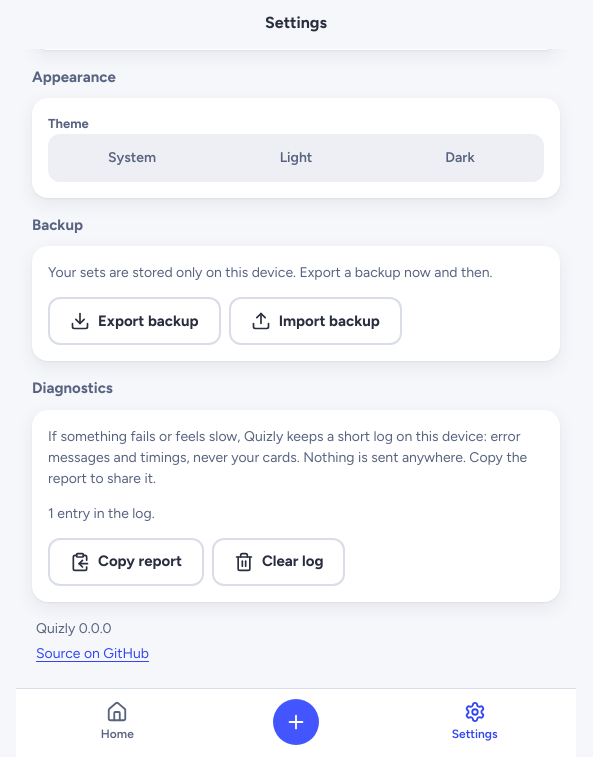
SettingsPage diagnostics › clears the log
(page scrolled)
What coordinates should you click on to do the following:
click the button "Clear log"
I would click on:
 (279, 562)
Its box is [212, 538, 345, 586].
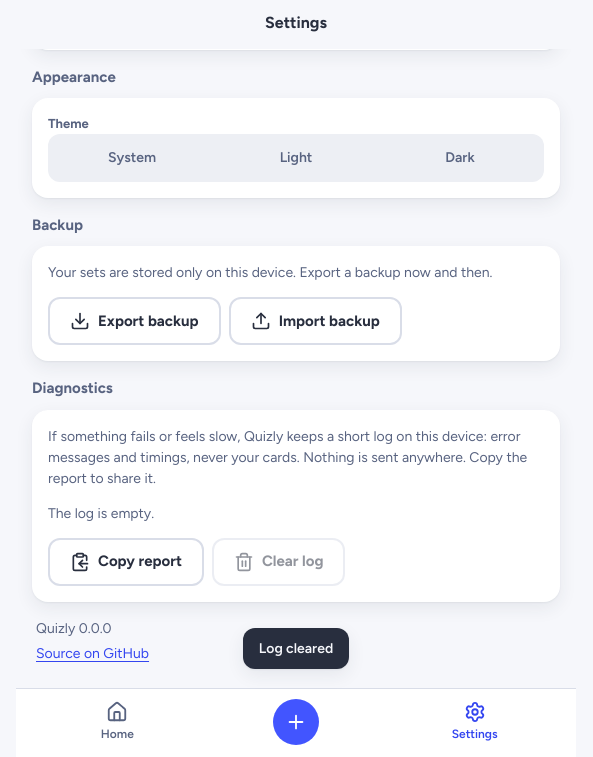
Expected: the text "Log cleared" is shown, [243, 628, 349, 669]
Expected: the text "The log is empty." is shown, [48, 504, 154, 522]
